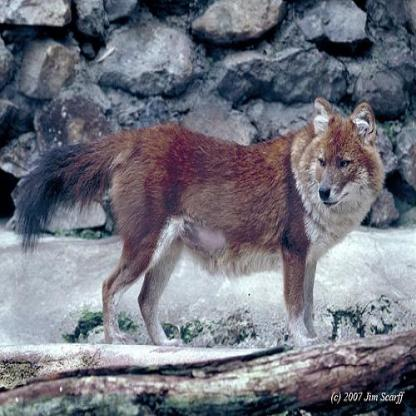dhole: (14, 93, 383, 345)
